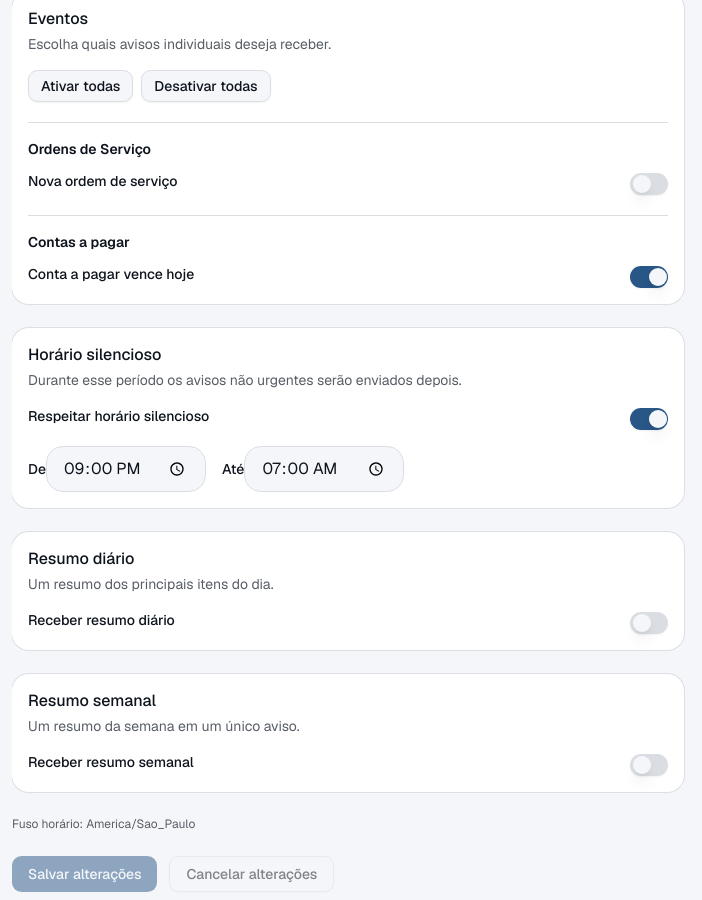
Test: NotificationSettingsPage › U13: daily summary enabled without a time blocks saving
(page scrolled)
Click the switch named "Receber resumo diário" in the row of "Receber resumo diário" at (649, 623), box x1=630 y1=612 x2=668 y2=634
(page scrolled)
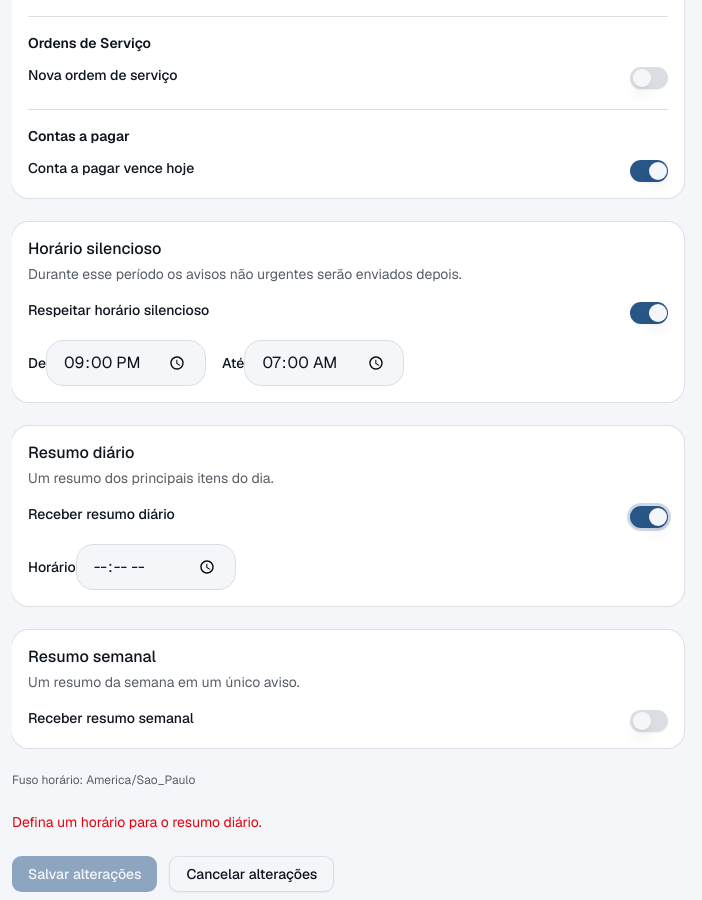
Expected: the button "Salvar alterações" is disabled, x1=12 y1=856 x2=158 y2=892
Now the text "Defina um horário para o resumo diário." is shown, box x1=12 y1=813 x2=262 y2=831
